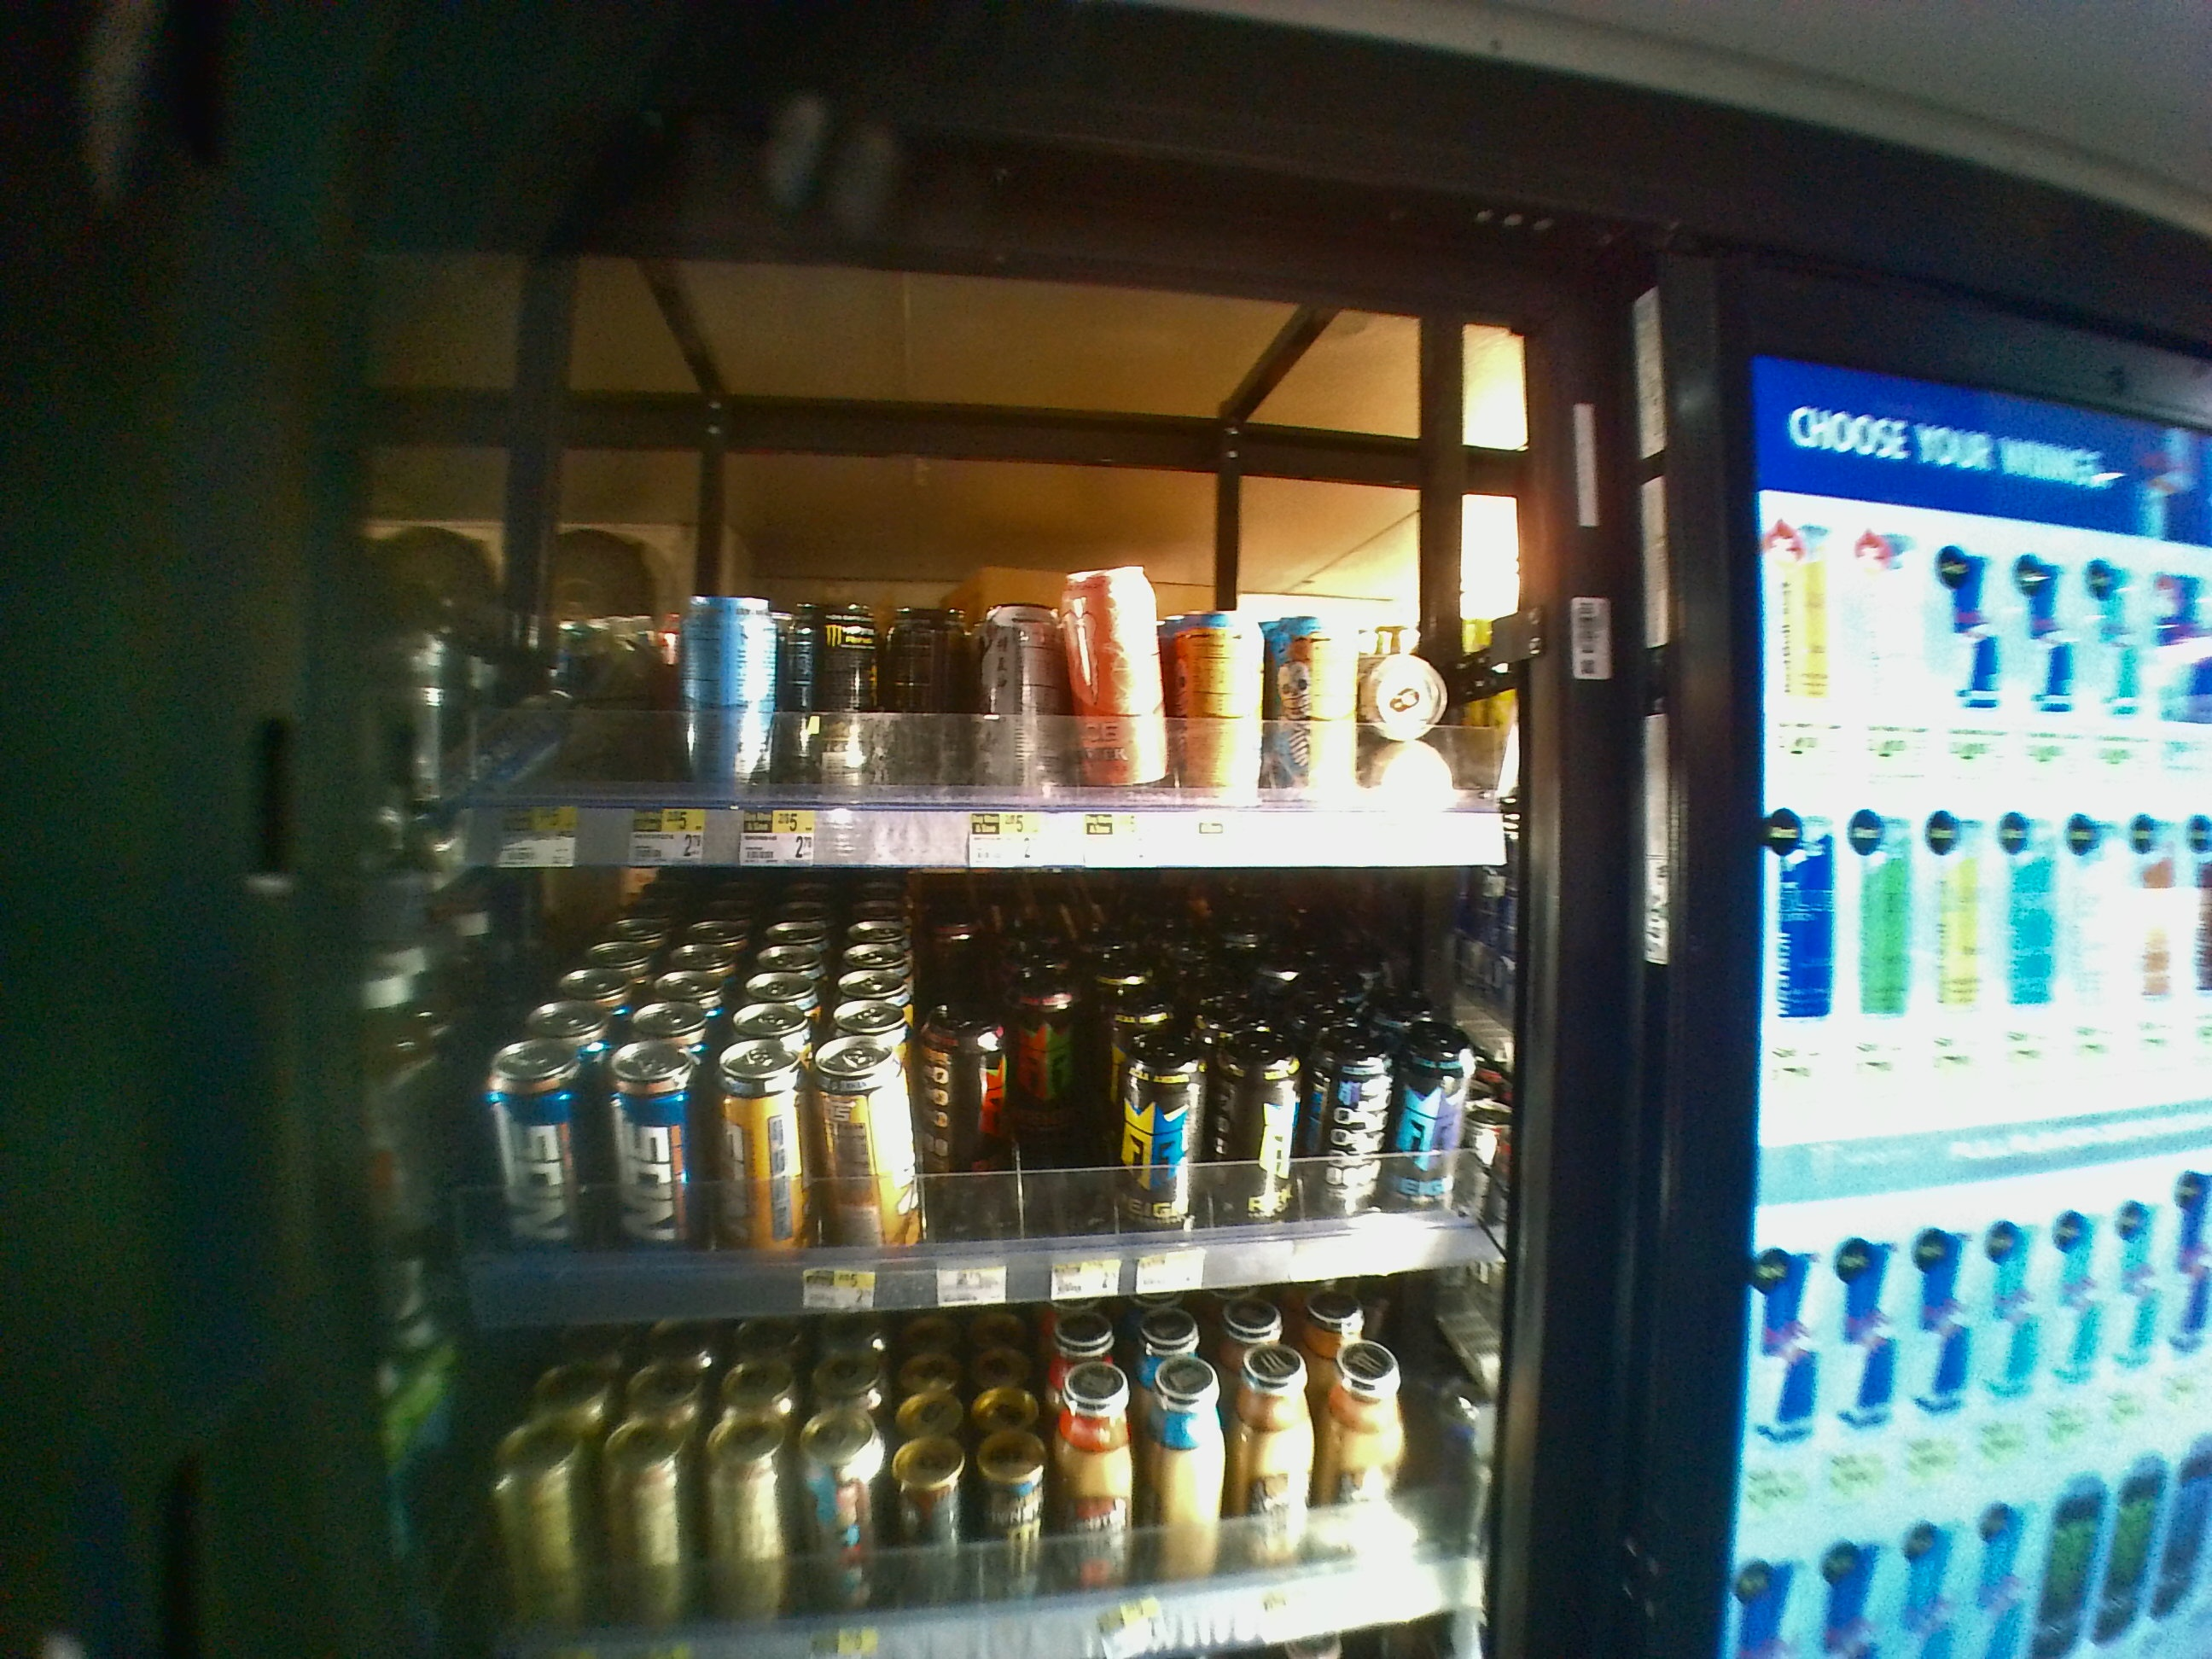shelf: (418, 260, 1526, 866), (385, 875, 1531, 1314)
